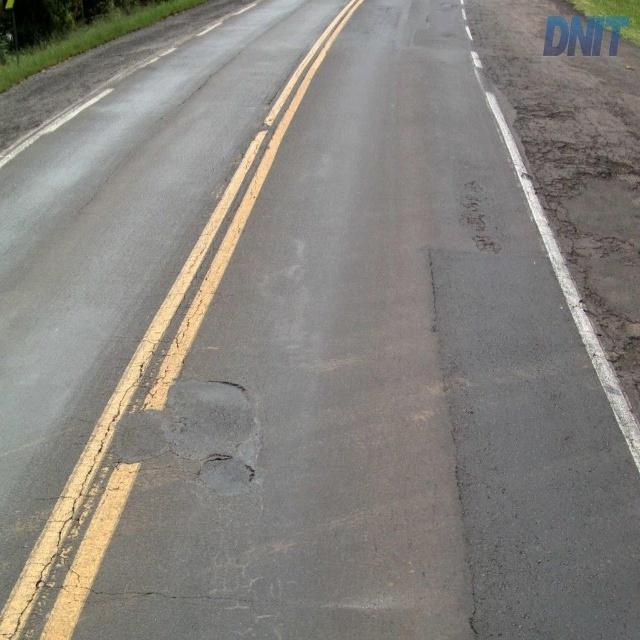pothole: (159, 367, 260, 502), (512, 108, 637, 212), (567, 263, 640, 369)
